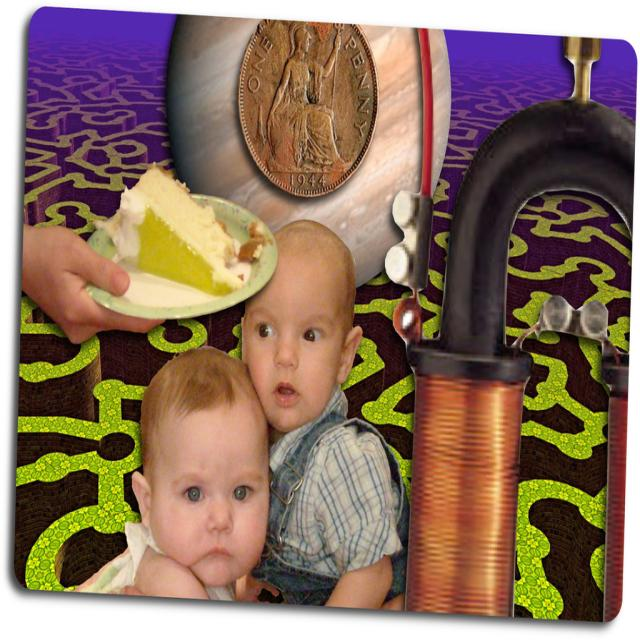Coin: (237, 8, 380, 202)
